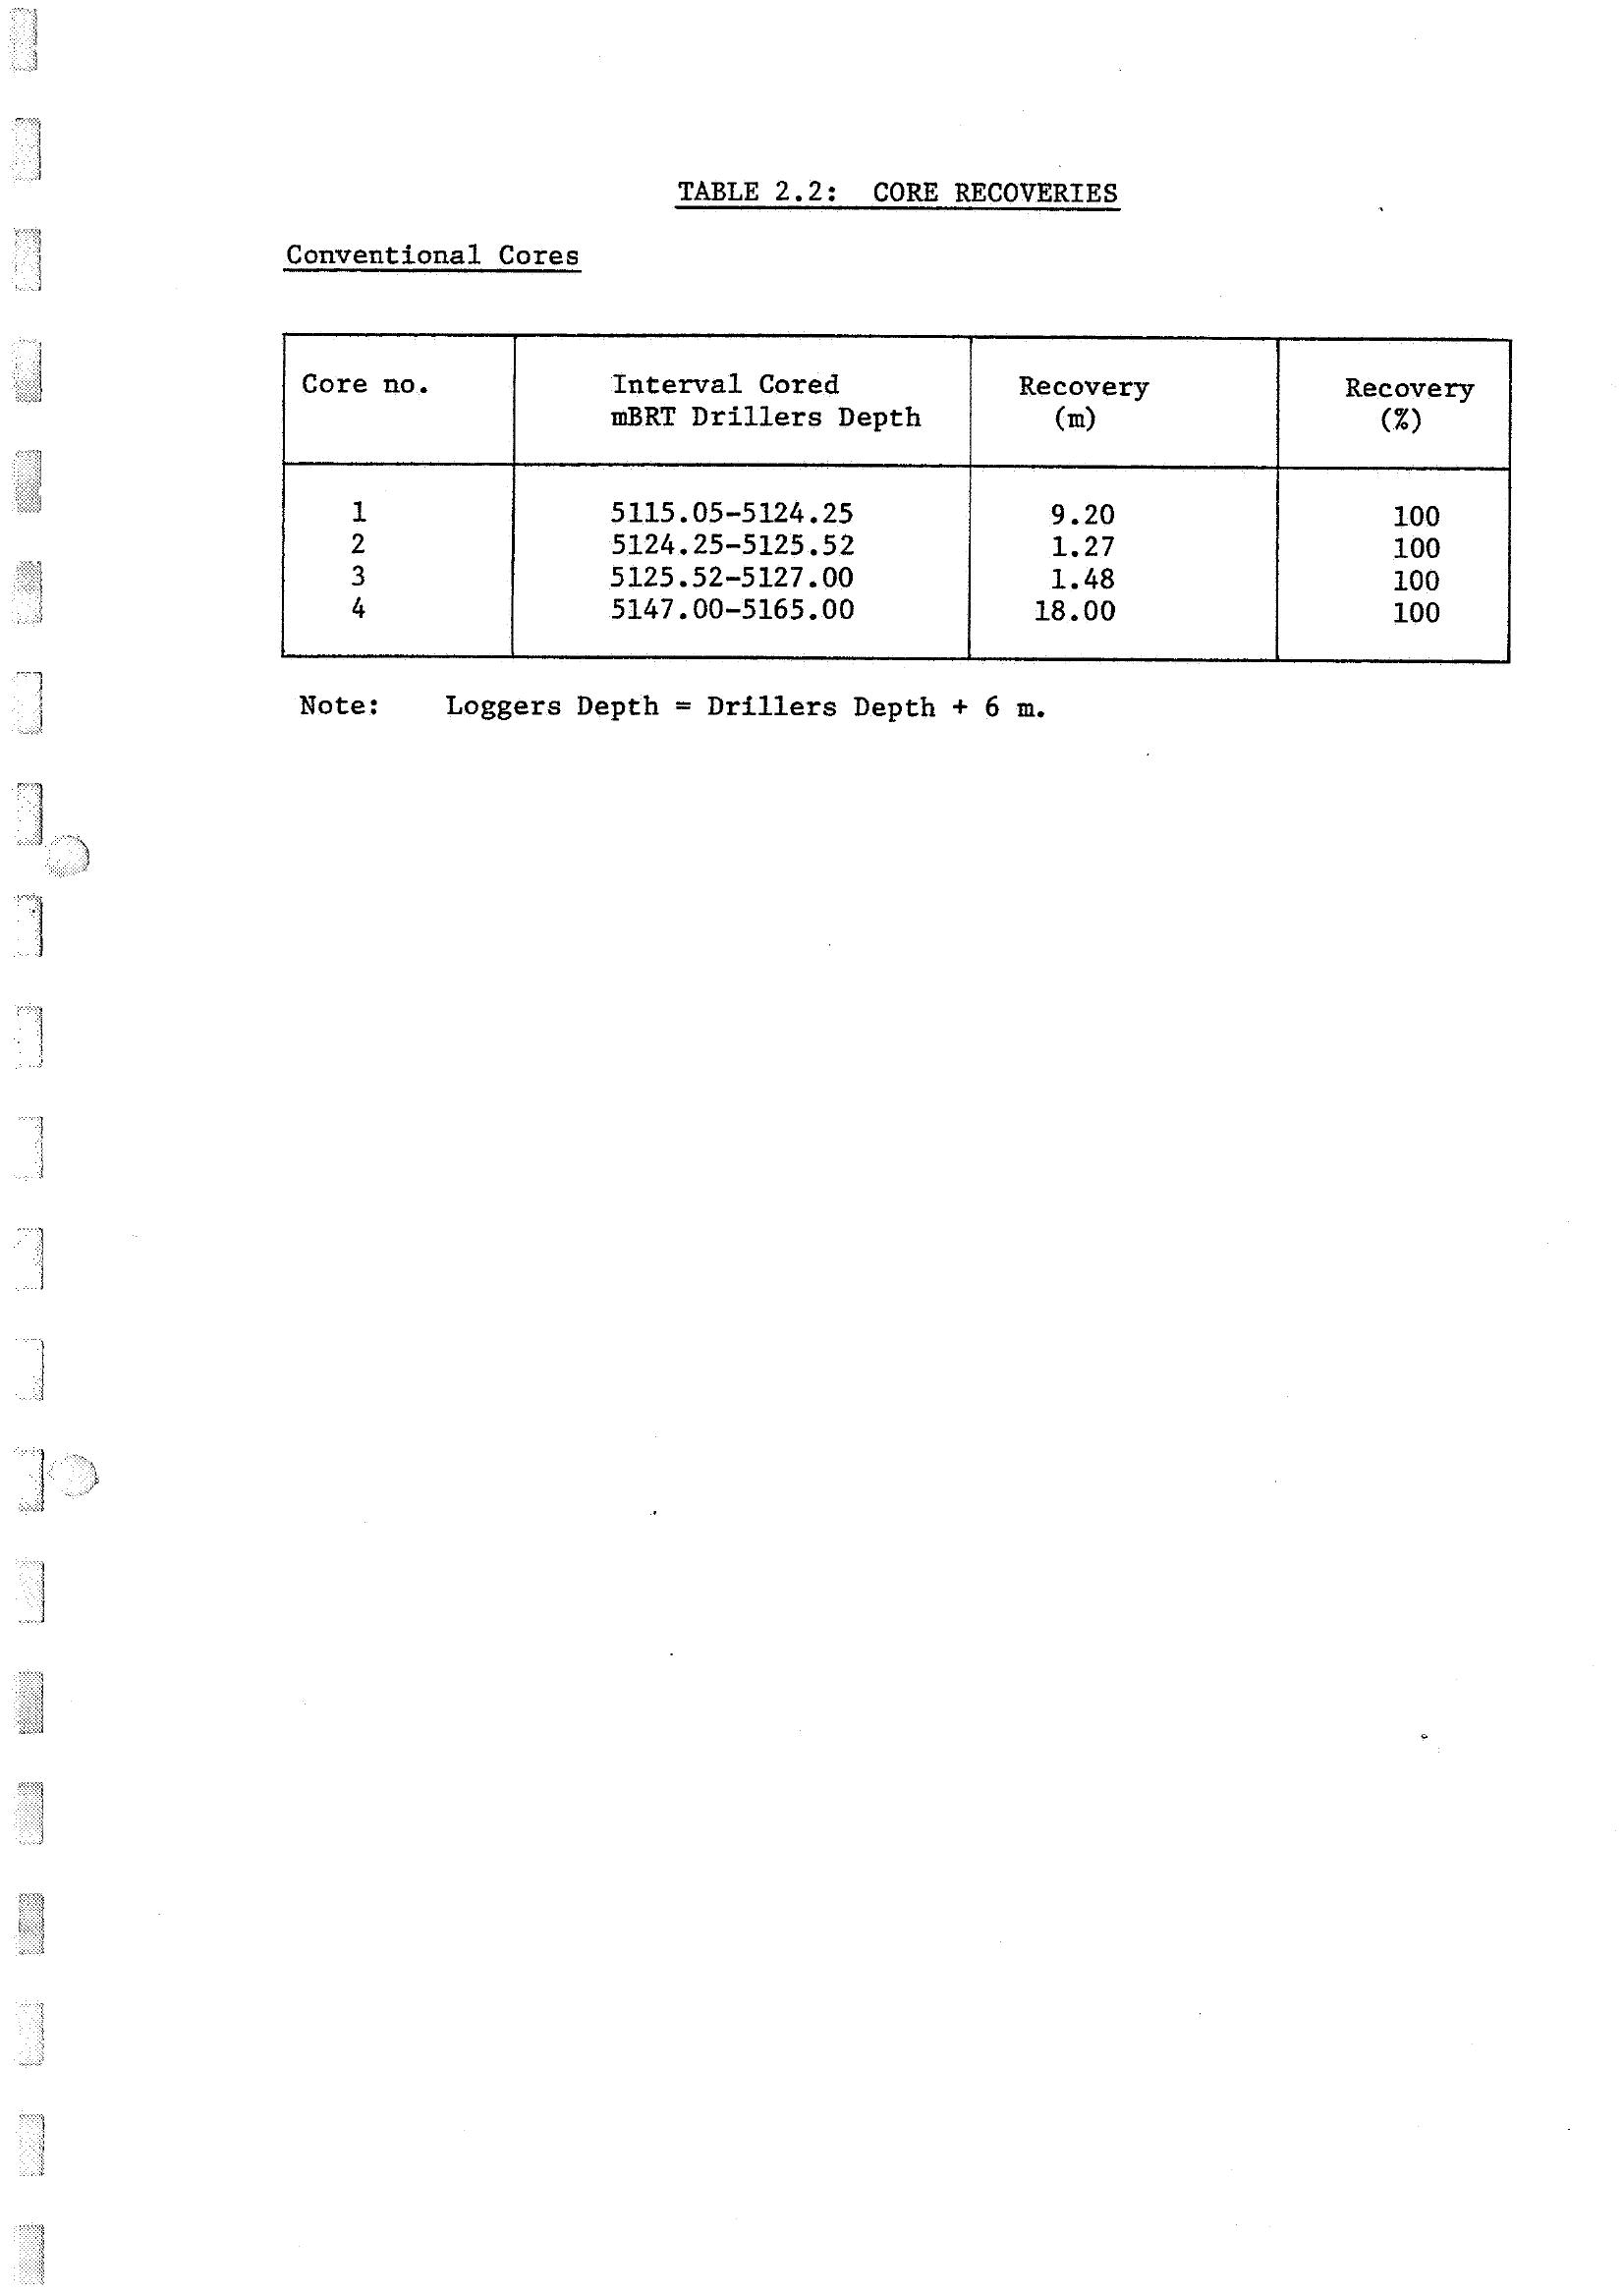table: (264, 234, 1531, 678)
text: (279, 678, 1060, 736), (659, 163, 1172, 228)
